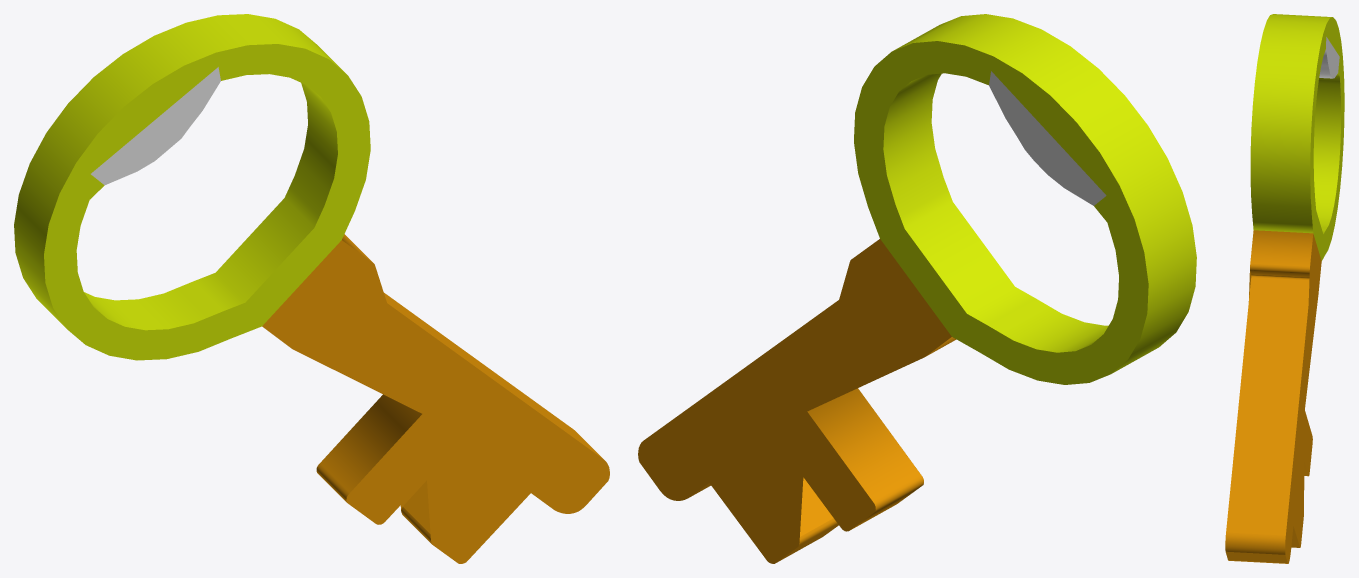
Rendered from endStage.fbx.
3 views of the same model, side by side, from view 1: azimuth 30°, elevation 25°; view 2: azimuth 150°, elevation 25°; view 3: azimuth 270°, elevation 25° (orthographic). The views are drawn at different scales.
Visible parts, largest first — view 1: endStage; view 2: endStage; view 3: endStage.
Part boxes in pixels (x1=…): endStage: x1=14, y1=14, x2=609, y2=563; endStage: x1=638, y1=14, x2=1196, y2=563; endStage: x1=1225, y1=14, x2=1344, y2=563.
Bounding box in the file's own units: 403 × 400 × 98.94.
